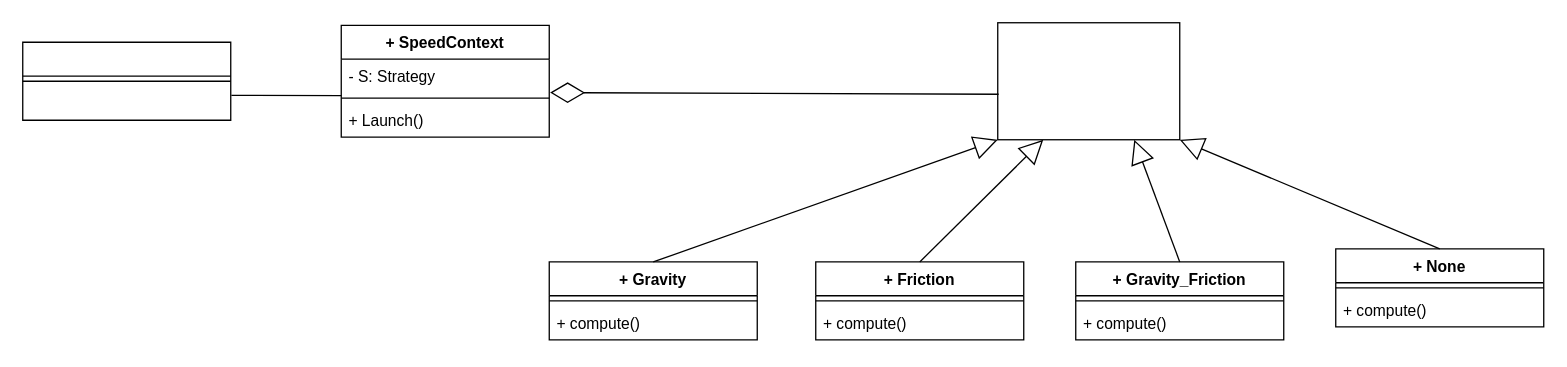
The diagram is 1567 pixels wide and 367 high, and some of its shapes have lost their labels. Here are the shapes that lost their labels. From the top down, the centre of each, then its label:
At (x=126, y=80): "+ Client".
At (x=1088, y=80): "<<Abstract>> + Strategy + compute()".
